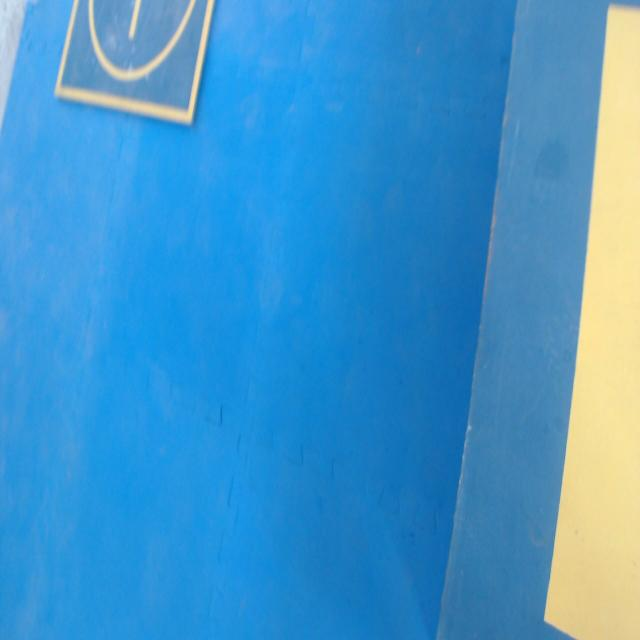base_inicio: (543, 5, 640, 639)
base_pouso: (54, 0, 213, 128)
